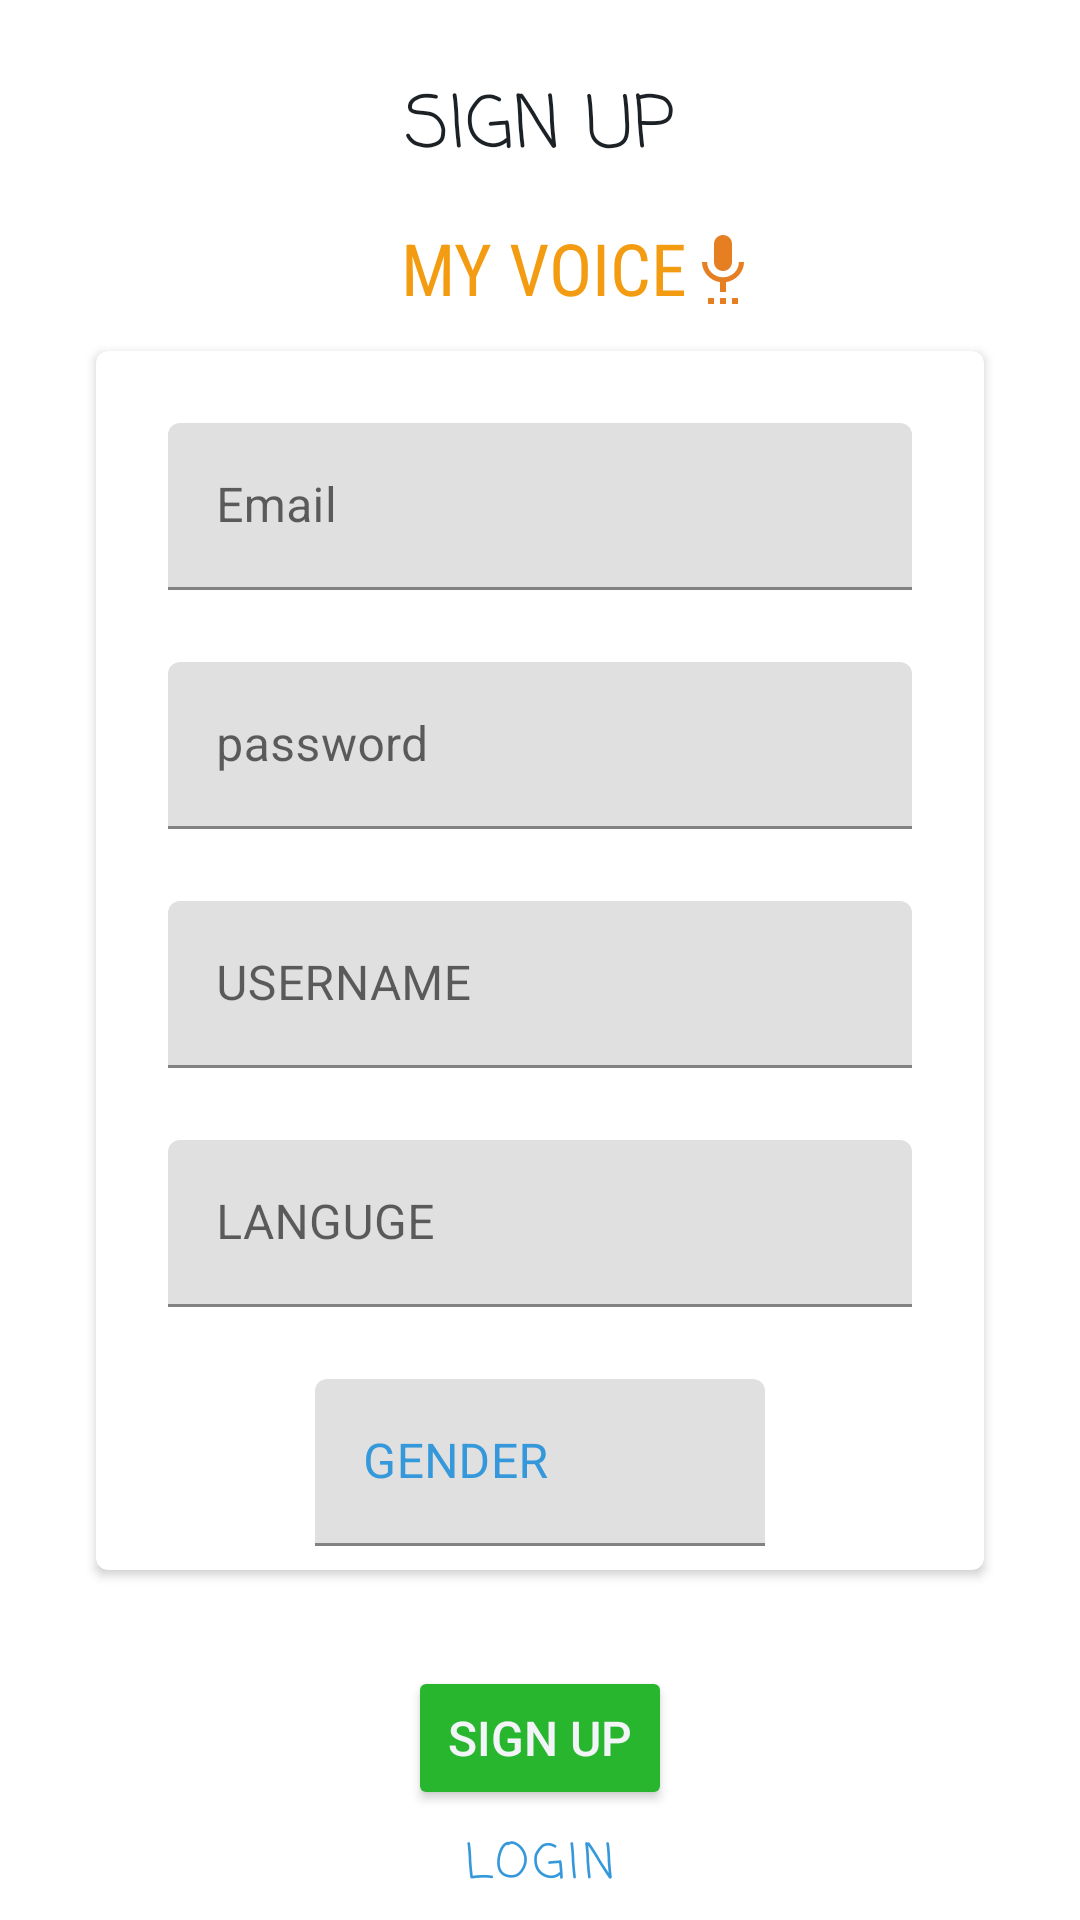

Where to tap for icons on this 1080w x 1920h app screen, as (x,y):
settings voice: (723,269)
